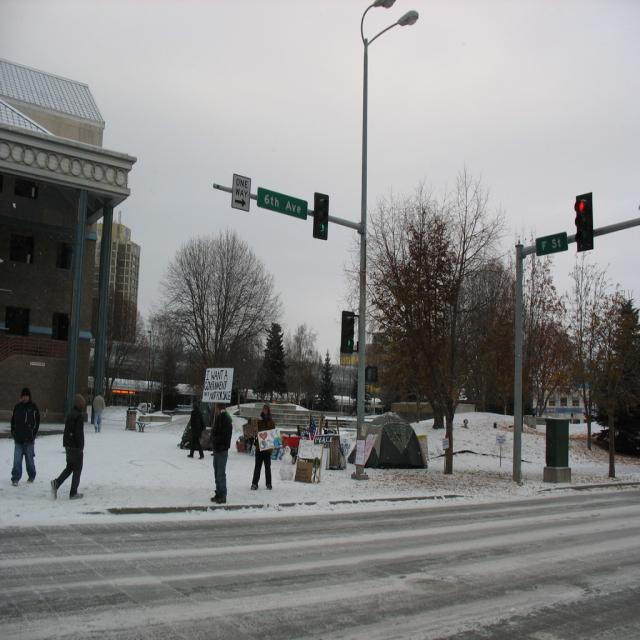traffic light: (572, 194, 595, 250), (312, 191, 331, 237)
